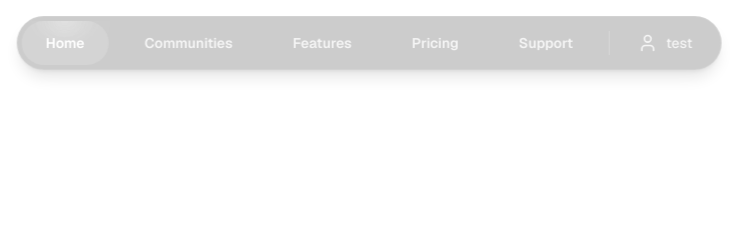
Test case: Navigation › When User is Authenticated › should show user menu when user button is clicked
Click the button "test" at (665, 43), box [622,21,708,65]
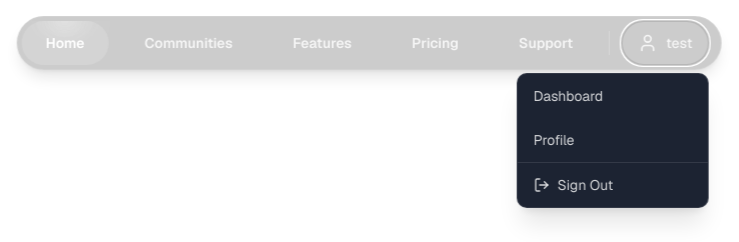
Check: the link "Dashboard" is shown, box [533,87,603,105]
Check: the link "Profile" is shown, box [533,131,574,149]
Check: the button "Sign Out" is shown, box [517,163,707,207]
